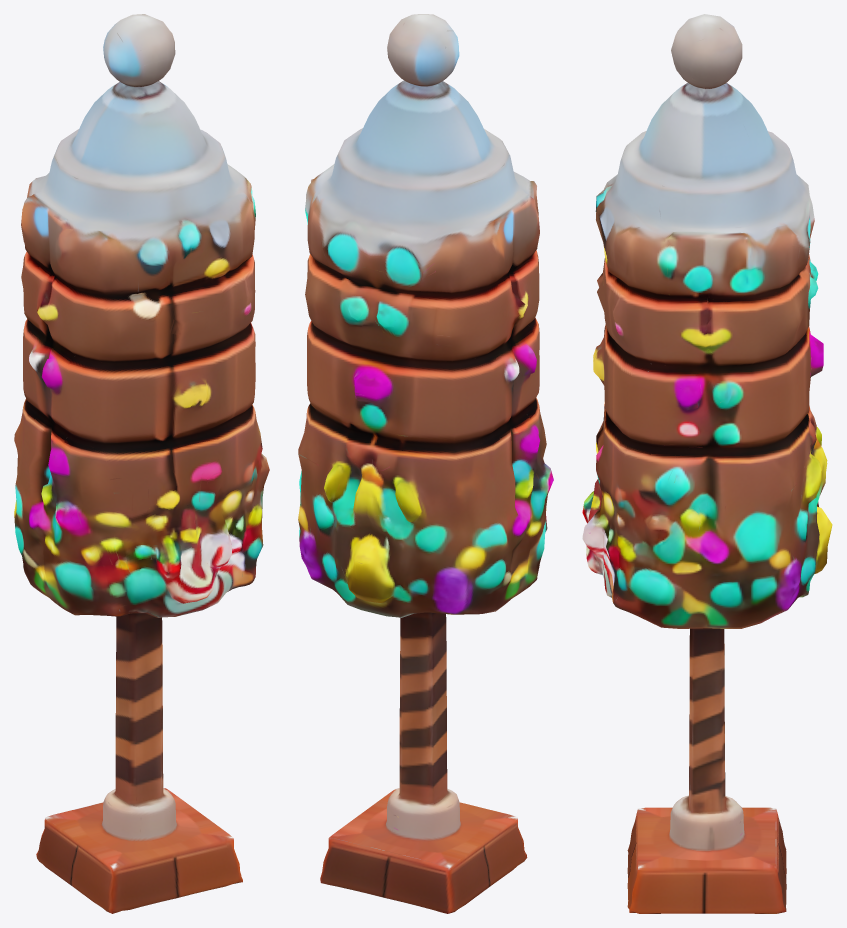
File: lod_basic_shaded.fbx
3 views of the same model, side by side, from view 1: azimuth 30°, elevation 25°; view 2: azimuth 150°, elevation 25°; view 3: azimuth 270°, elevation 25° (orthographic).
Parts seen in each view (by area): view 1: model_LOD0; view 2: model_LOD0; view 3: model_LOD0.
Boxes of the visible parts, x1,y1,x2,y2 form: model_LOD0: [14, 14, 269, 913]; model_LOD0: [298, 14, 553, 913]; model_LOD0: [582, 14, 832, 913].
Size of what is drawn, in the model's own units: 38.63 by 151 by 39.53.
